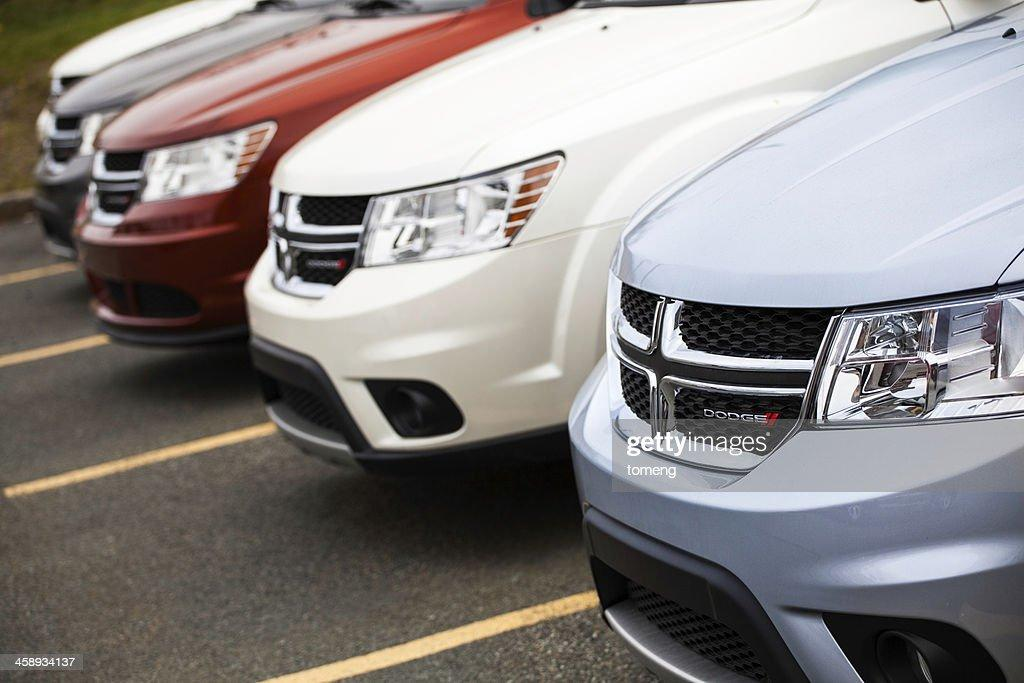dodge: (694, 402, 787, 431), (300, 252, 352, 275)
